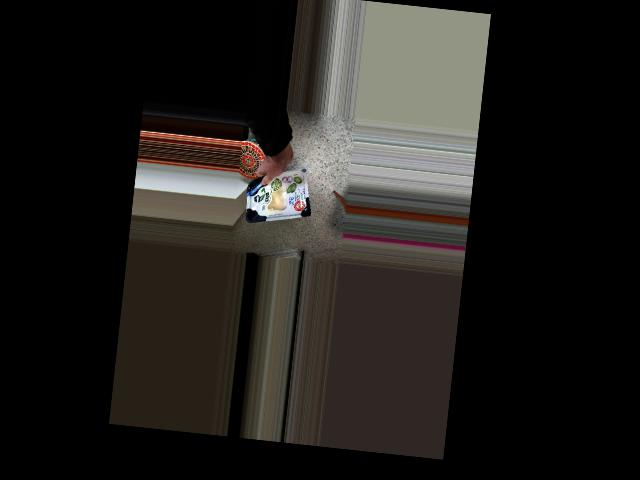cheese: (239, 168, 315, 223)
